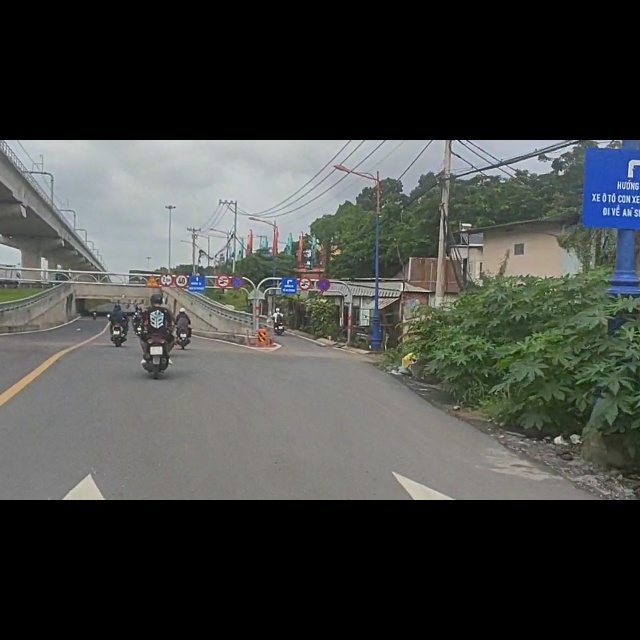bien_chi_dan: (159, 236, 174, 261), (216, 239, 231, 264), (175, 238, 189, 263), (317, 245, 331, 270), (145, 238, 159, 263), (299, 244, 313, 267), (232, 242, 245, 265)
